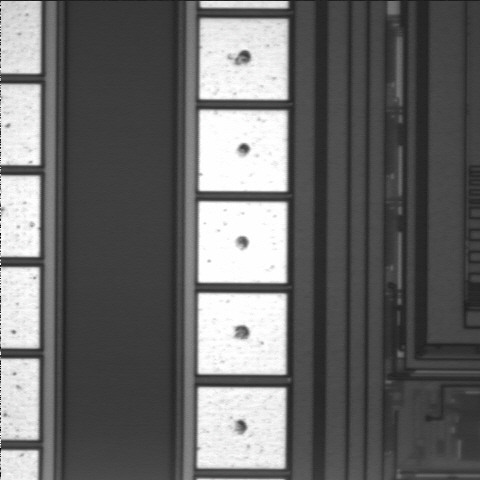pad: (198, 201, 287, 283), (198, 293, 287, 375), (197, 387, 286, 469), (199, 110, 287, 192), (199, 19, 288, 100)
